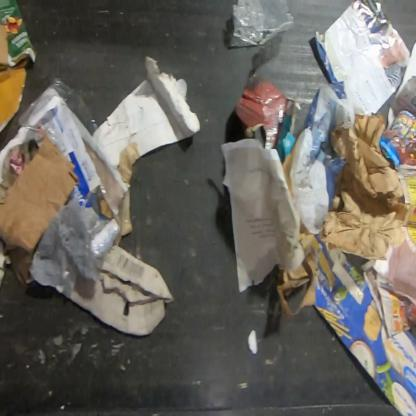cardboard: (275, 220, 415, 415), (92, 55, 202, 247), (0, 138, 81, 284), (68, 245, 175, 338), (235, 74, 314, 164), (0, 0, 39, 140)
soft_plastic: (16, 76, 128, 260), (229, 0, 295, 48)
